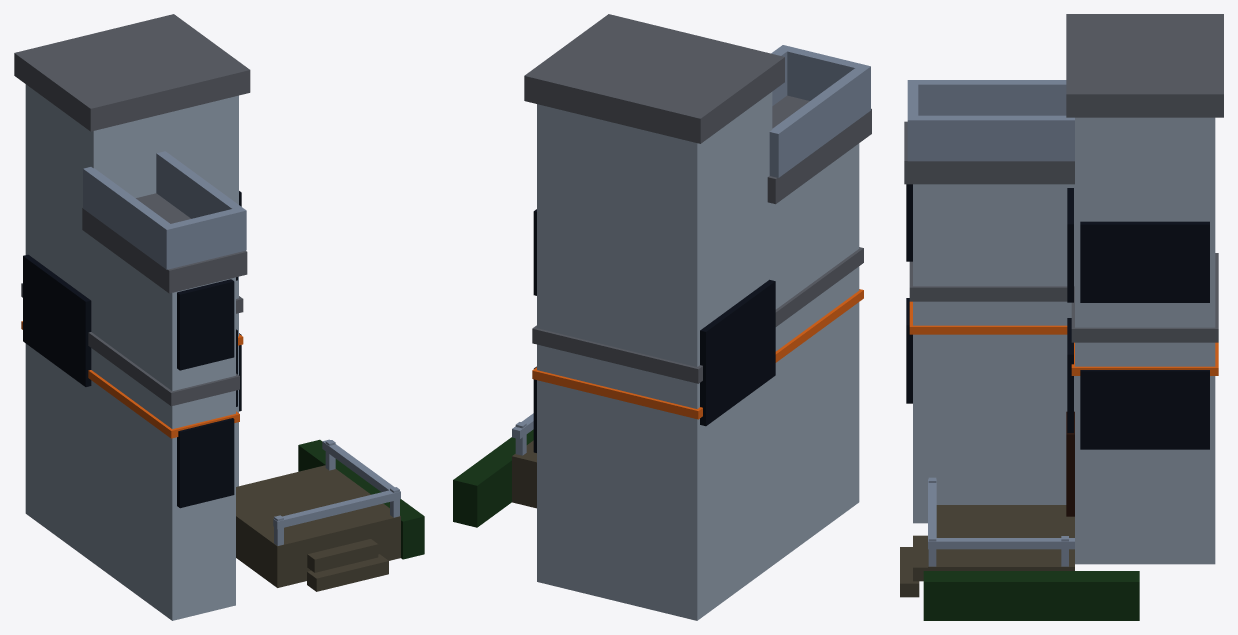
The model's file is walkup4.obj.
3 renders of one model, left to right at view 1: azimuth 30°, elevation 25°; view 2: azimuth 150°, elevation 25°; view 3: azimuth 270°, elevation 25°, orthographic. The views are drawn at different scales.
Visible parts, largest first — view 1: wings, wing-caps, corner-glazing, deck, roof-terrace, deck-rail, steps, floor-bands, hedge, window-lights; view 2: wings, wing-caps, roof-terrace, corner-glazing, floor-bands, hedge, window-lights, deck; view 3: wings, corner-glazing, wing-caps, roof-terrace, hedge, deck, floor-bands, deck-rail, window-lights, steps, entry.
Boxes of the visible parts, x1,y1,x2,y2 form: wings: [25, 84, 238, 620]; wing-caps: [14, 14, 250, 293]; corner-glazing: [23, 191, 241, 508]; deck: [236, 465, 400, 587]; roof-terrace: [83, 151, 246, 269]; deck-rail: [273, 439, 400, 545]; steps: [307, 539, 388, 591]; floor-bands: [21, 283, 243, 406]; hedge: [298, 439, 424, 559]; window-lights: [21, 321, 243, 438]; wings: [537, 92, 859, 620]; wing-caps: [524, 14, 871, 204]; roof-terrace: [769, 45, 870, 177]; corner-glazing: [533, 209, 775, 452]; floor-bands: [532, 247, 863, 383]; hedge: [453, 429, 533, 527]; window-lights: [532, 289, 863, 419]; deck: [512, 440, 536, 508]; wings: [913, 117, 1215, 564]; corner-glazing: [906, 184, 1209, 449]; wing-caps: [904, 14, 1223, 184]; roof-terrace: [907, 80, 1074, 161]; hedge: [923, 571, 1139, 620]; deck: [928, 505, 1074, 570]; floor-bands: [909, 253, 1218, 342]; deck-rail: [928, 477, 1074, 566]; window-lights: [909, 301, 1218, 375]; steps: [900, 535, 927, 597]; entry: [1066, 411, 1074, 516].
Size of the model in its own units: 2.93 by 4.84 by 3.
